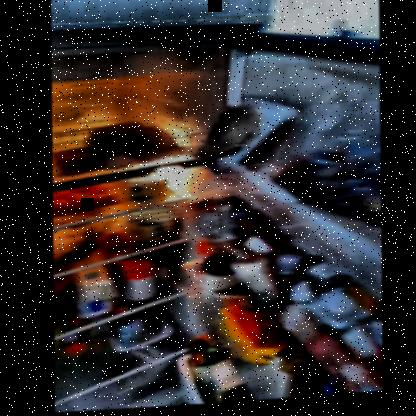milk: (77, 272, 116, 318), (211, 359, 247, 405)
